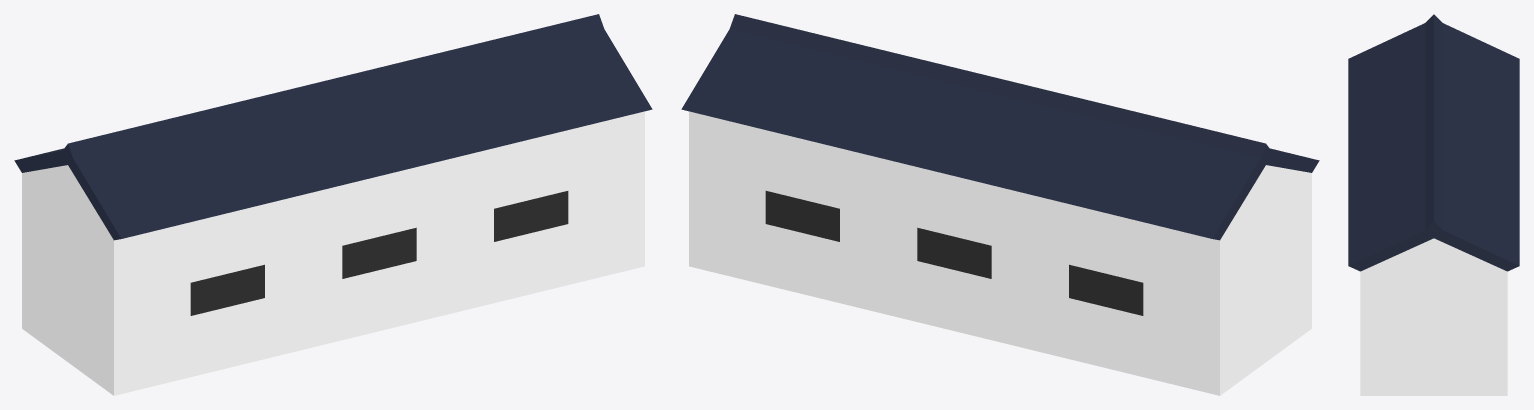
Rendered from wall-japan_medium.glb.
The picture shows the model from 3 angles, left to right: view 1: azimuth 30°, elevation 25°; view 2: azimuth 150°, elevation 25°; view 3: azimuth 270°, elevation 25°; orthographic projection. The views are drawn at different scales.
Visible parts, largest first — view 1: wall-japan_medium; view 2: wall-japan_medium; view 3: wall-japan_medium.
Boxes of the visible parts, box(x1,y1,x2,y2) form: wall-japan_medium: box(14, 14, 652, 395); wall-japan_medium: box(681, 14, 1319, 395); wall-japan_medium: box(1348, 14, 1519, 395).
Size of the model in its own units: 10 by 3.94 by 3.5.
1 material, 1 textured.
